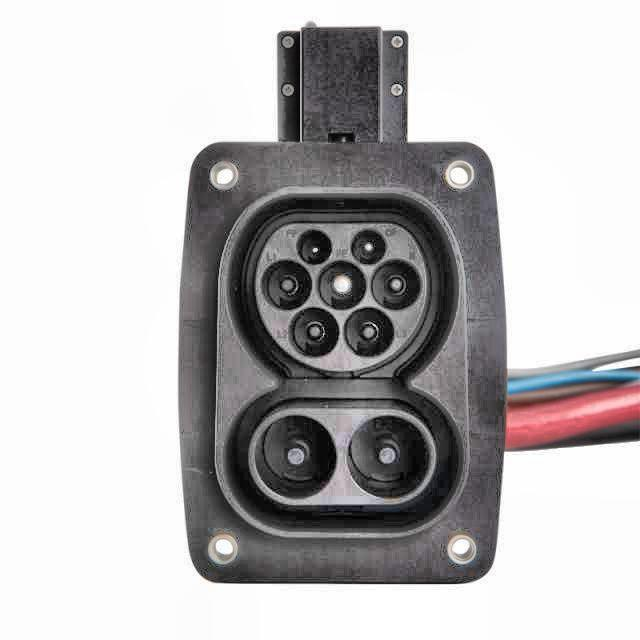inlet: (256, 224, 429, 373)
inlet-above-left: (296, 229, 333, 265)
inlet-above-right: (350, 230, 386, 265)
inlet-below-left: (289, 306, 337, 358)
inlet-below-right: (345, 307, 397, 357)
inlet-center: (317, 259, 366, 312)
inlet-center-left: (262, 261, 312, 311)
inlet-center-right: (371, 259, 421, 310)
